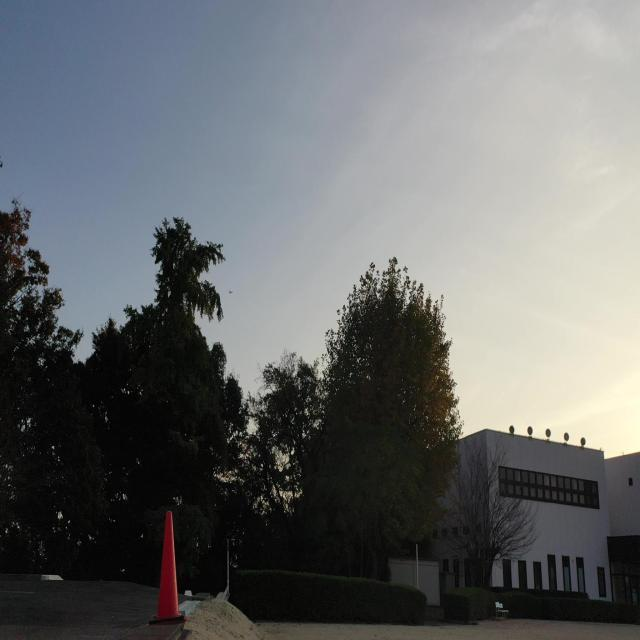Birds: (225, 286, 234, 297)
